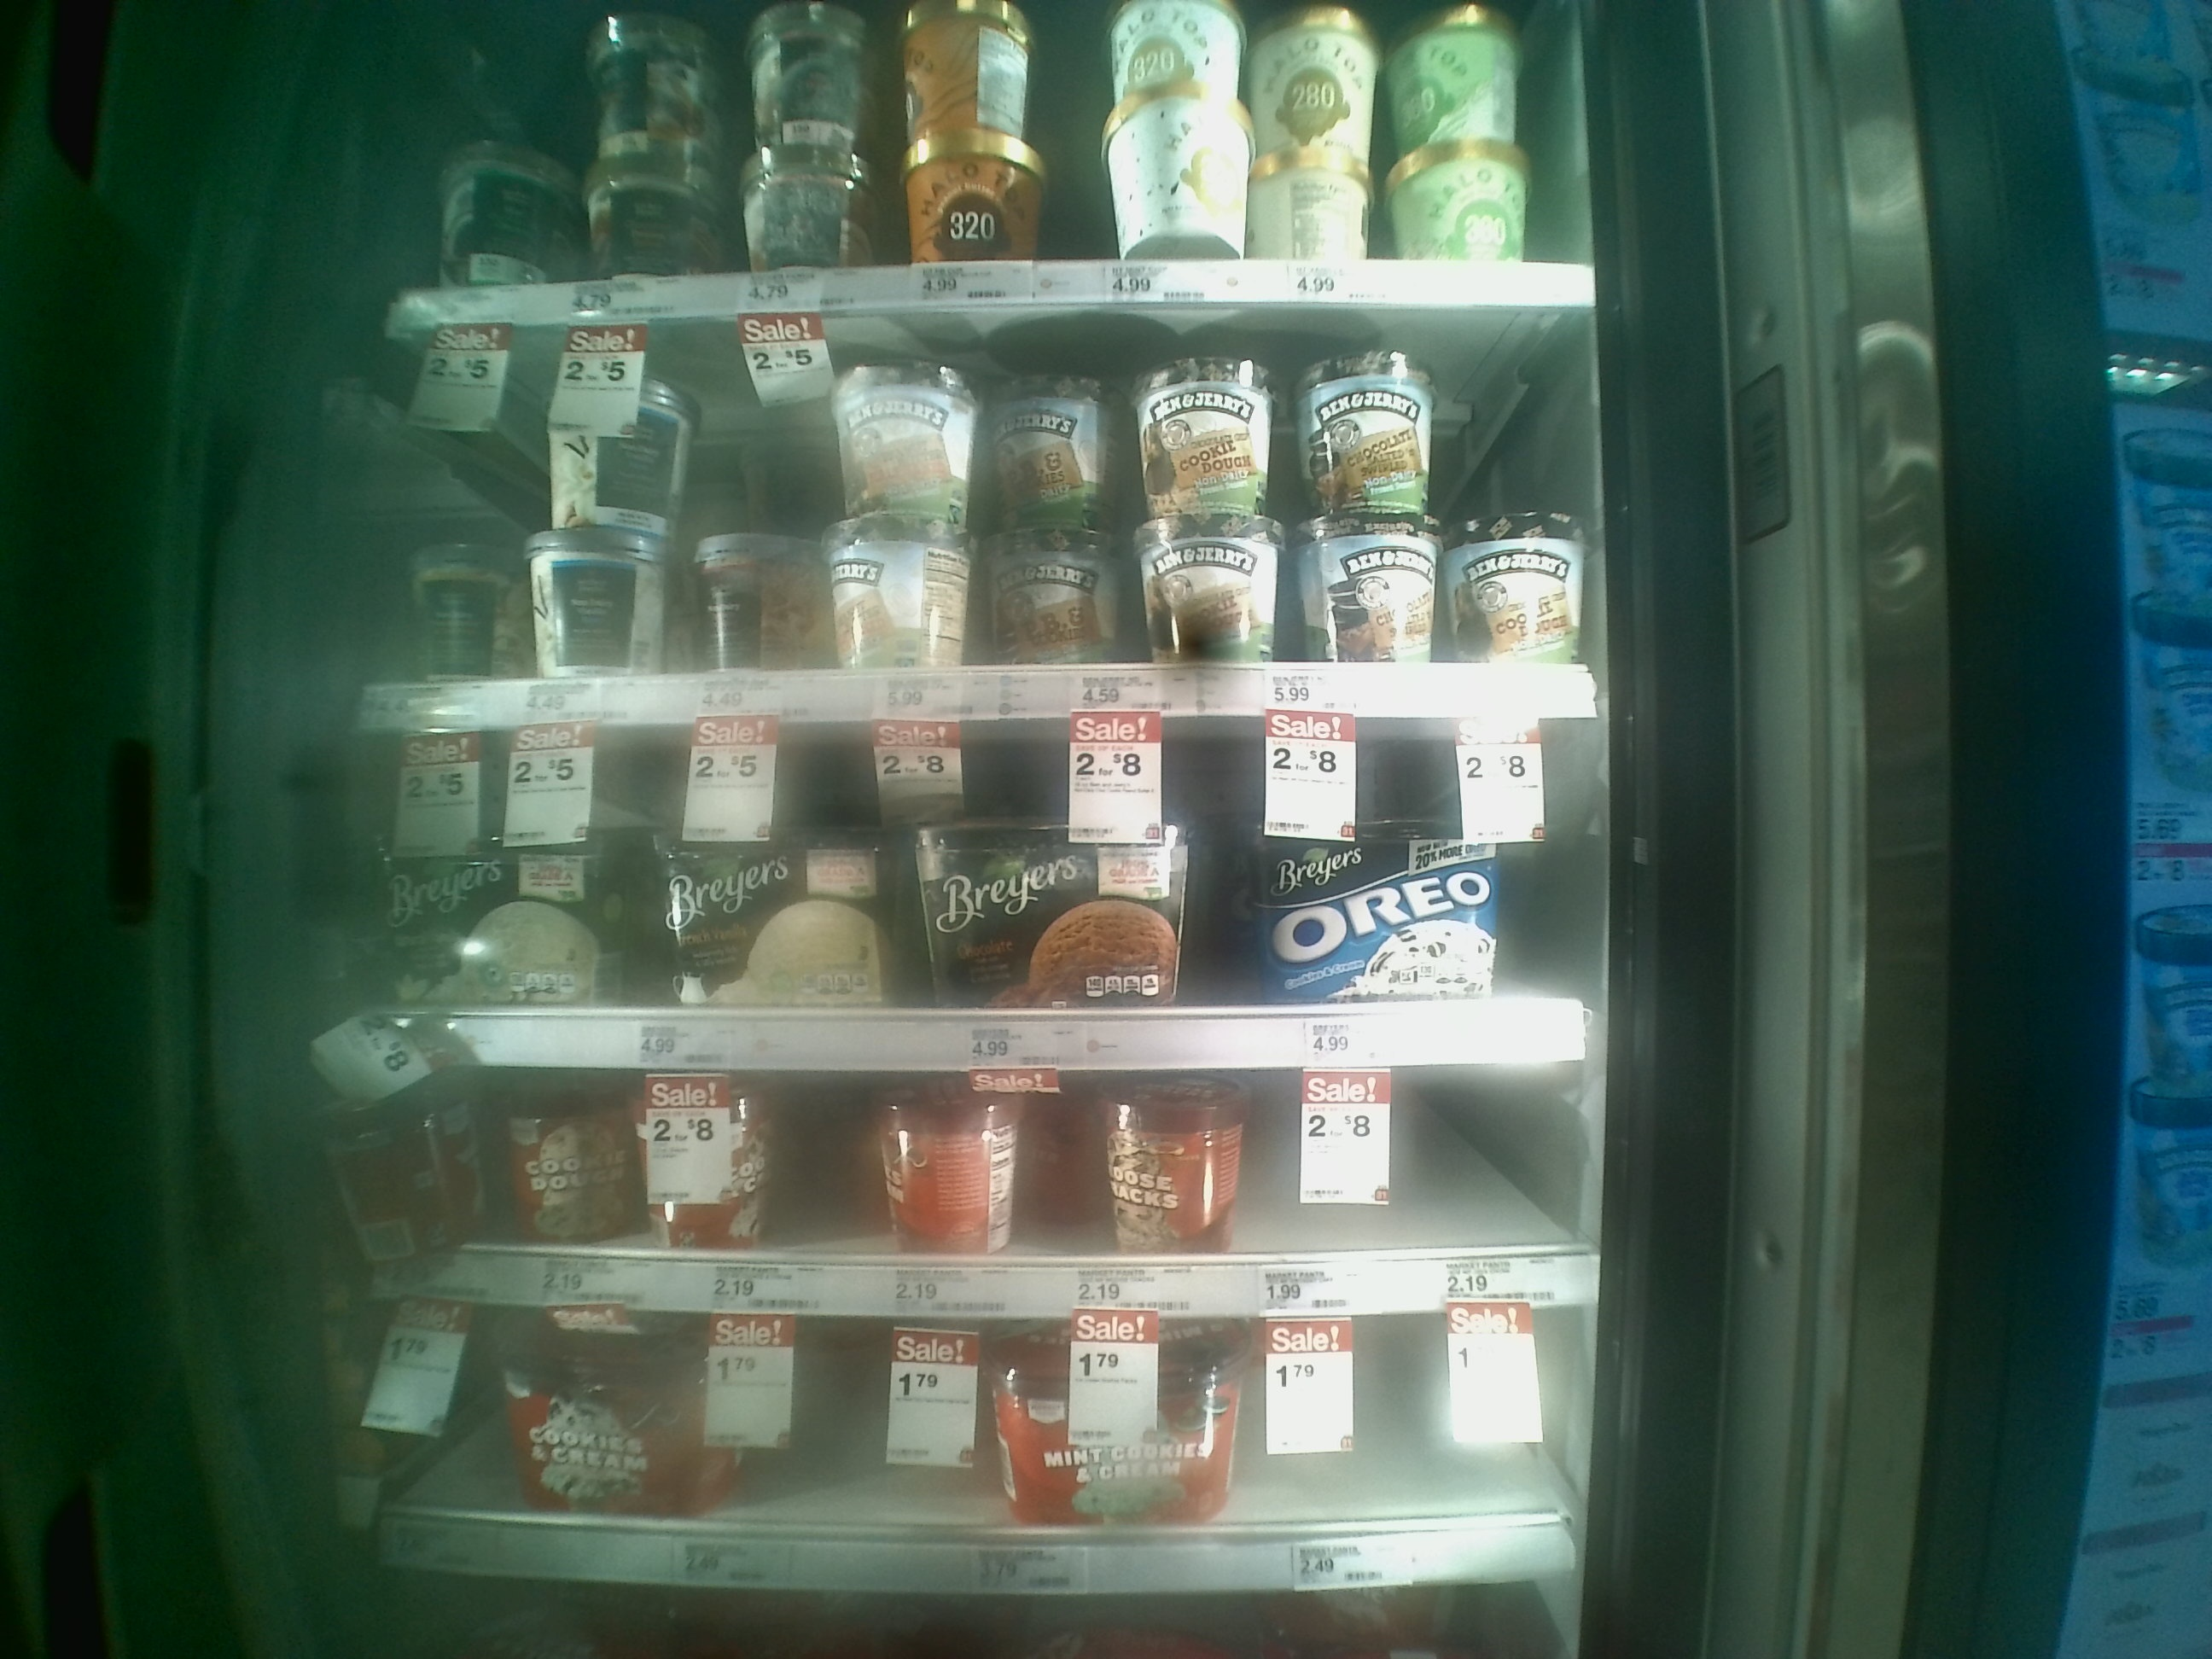shelf: (350, 300, 1599, 718), (350, 718, 1615, 1068), (347, 1309, 1601, 1610), (350, 1070, 1606, 1314)
